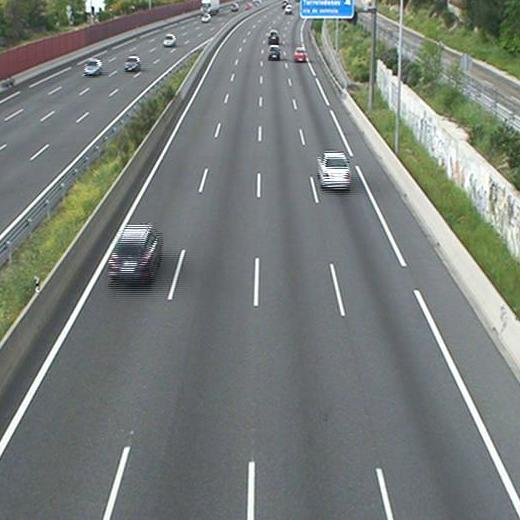car: (111, 227, 161, 278), (317, 153, 350, 188), (294, 48, 306, 62), (269, 45, 280, 59), (268, 30, 279, 43), (284, 5, 292, 13)
